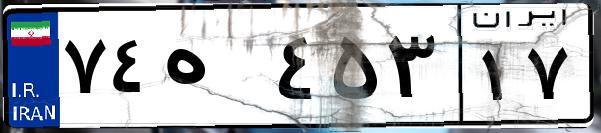1: (475, 38, 525, 113)
3: (385, 28, 445, 110)
4: (270, 28, 330, 110), (110, 28, 158, 98)
5: (330, 28, 385, 110)
7: (57, 26, 110, 100), (525, 38, 570, 115)
ه: (158, 20, 270, 120)
